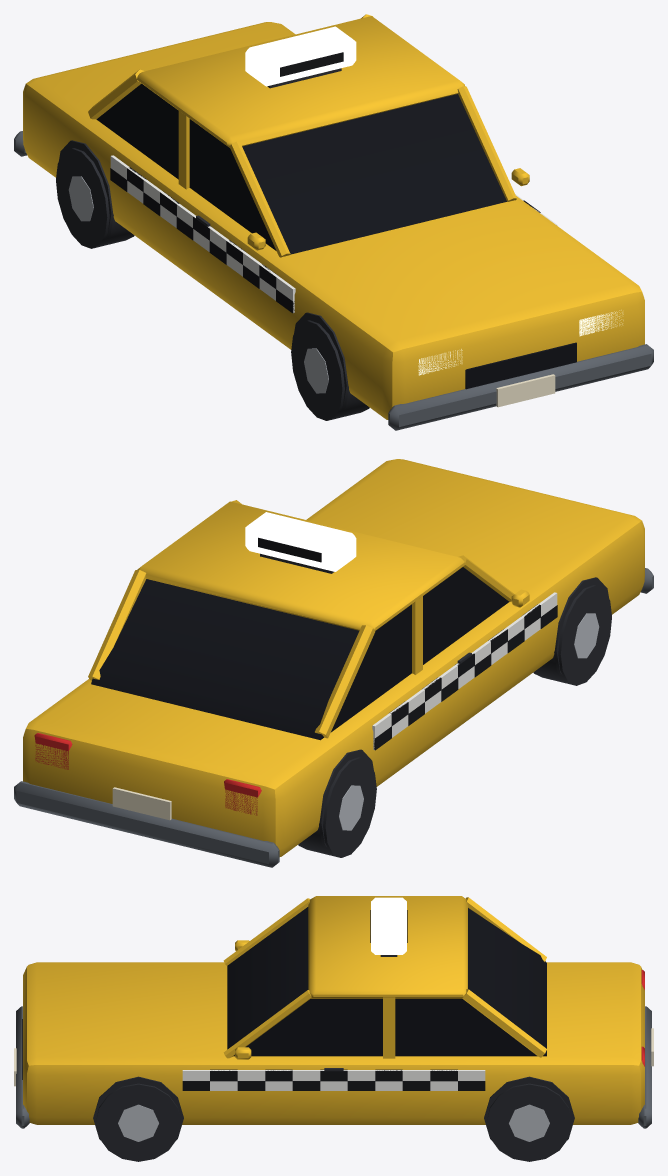
File: taxi.glb
3 renders of one model, top to bottom at view 1: azimuth 30°, elevation 25°; view 2: azimuth 150°, elevation 25°; view 3: azimuth 270°, elevation 25°, orthographic. The views are drawn at different scales.
Visible parts, largest first — view 1: body; view 2: body; view 3: body.
Boxes of the visible parts, x1,y1,x2,y2 form: body: (14,14,653,430); body: (14,459,653,867); body: (14,896,653,1161).
Bounding box in the file's own units: 192 × 154 × 465.
